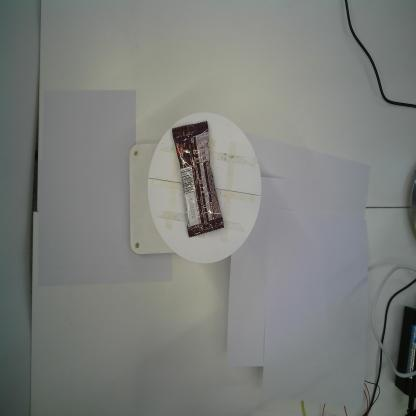Chocolate: (171, 120, 225, 239)
